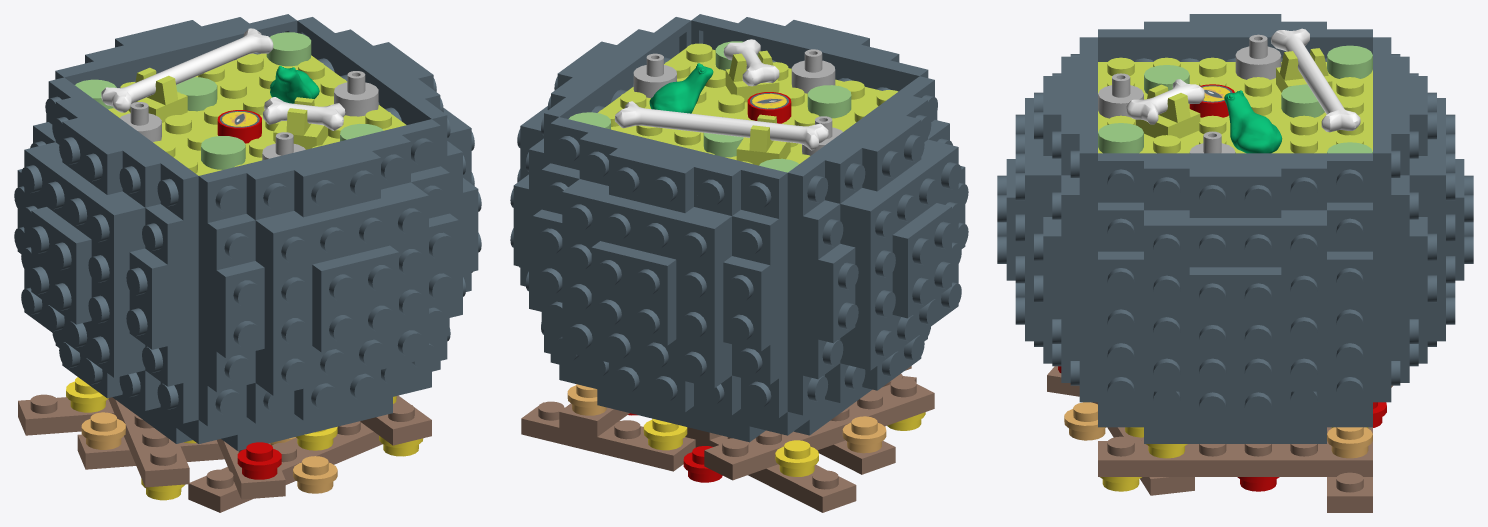
File: Cauldron_2_Final.fbx
The picture shows the model from 3 angles, left to right: view 1: azimuth 30°, elevation 25°; view 2: azimuth 150°, elevation 25°; view 3: azimuth 270°, elevation 25°; orthographic projection. The views are drawn at different scales.
Visible parts, largest first — view 1: Cauldron_2; view 2: Cauldron_2; view 3: Cauldron_2.
Part boxes in pixels (left/top/right/bottom): Cauldron_2: left=14, top=14, right=481, bottom=512; Cauldron_2: left=510, top=14, right=968, bottom=512; Cauldron_2: left=997, top=14, right=1473, bottom=512.
Size of the model in its own units: 2080 by 1747 by 2080.
